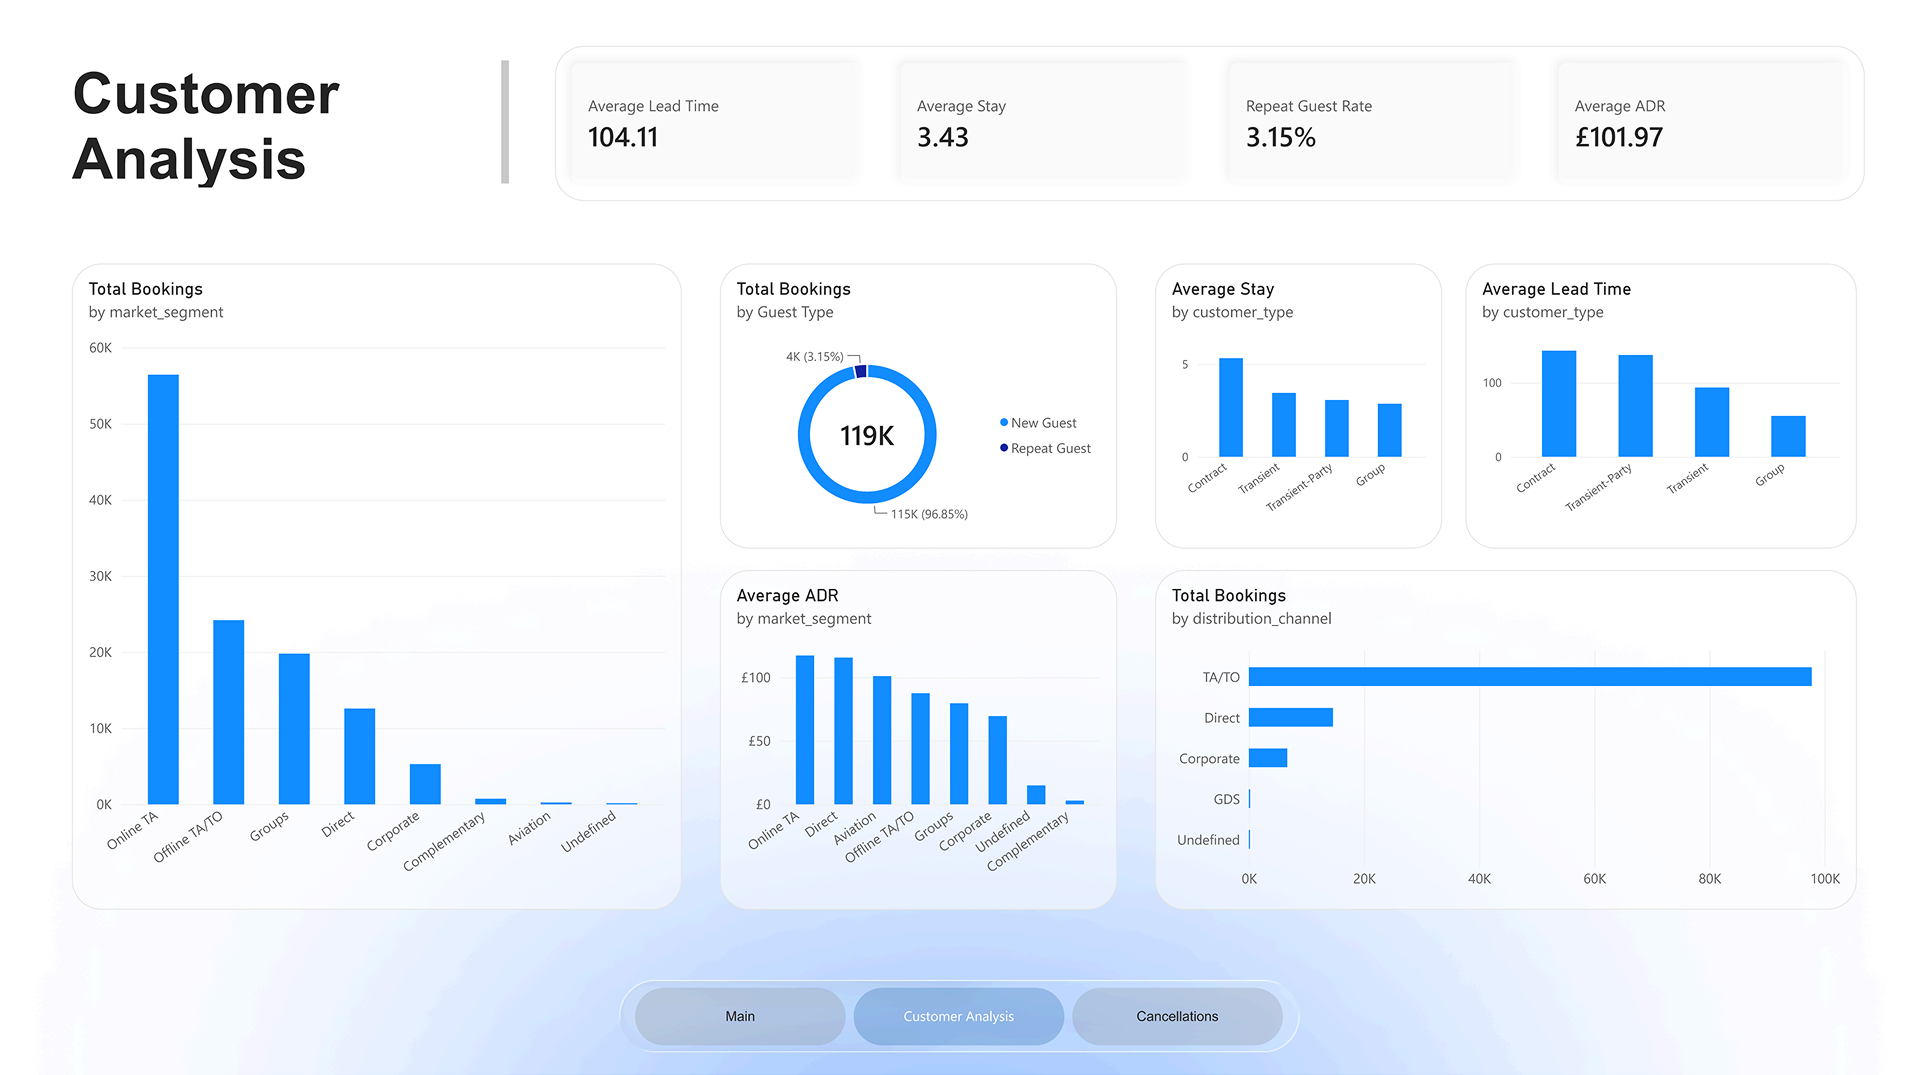

This screenshot's page, from the dashboard's own definition file:
{"tool":"powerbi","page":{"name":"Customer Analysis","canvas":[1920,1080],"ordinal":1},"visuals":[{"type":"cardVisual","fields":{"Data":["public vw_hotel_analysis.Average Lead Time","public vw_hotel_analysis.Average Stay","public vw_hotel_analysis.Repeat Guest Rate","public vw_hotel_analysis.Average ADR"]},"box":[545,23.3,1341.7,158.3],"z":0},{"type":"textbox","box":[50,38.3,448.3,130],"z":1000},{"type":"lineClusteredColumnComboChart","fields":{"Category":["public vw_hotel_analysis.market_segment"],"Y":["public vw_hotel_analysis.Total Bookings"]},"box":[50,246.2,625,661.2],"z":2000},{"type":"donutChart","fields":{"Category":["public vw_hotel_analysis.Guest Type"],"Y":["public vw_hotel_analysis.Total Bookings"]},"box":[713.8,246.2,407.5,291.2],"z":3000},{"type":"lineClusteredColumnComboChart","fields":{"Category":["public vw_hotel_analysis.market_segment"],"Y":["public vw_hotel_analysis.Average ADR"]},"box":[713.8,560,407.5,347.5],"z":4000},{"type":"clusteredColumnChart","fields":{"Category":["public vw_hotel_analysis.customer_type"],"Y":["public vw_hotel_analysis.Average Stay"]},"box":[1160,246.2,293.8,291.2],"z":5000},{"type":"lineClusteredColumnComboChart","fields":{"Category":["public vw_hotel_analysis.customer_type"],"Y":["public vw_hotel_analysis.Average Lead Time"]},"box":[1477.5,246.2,401.2,291.2],"z":6000},{"type":"barChart","fields":{"Category":["public vw_hotel_analysis.distribution_channel"],"Y":["public vw_hotel_analysis.Total Bookings"]},"box":[1160,560,718.8,347.5],"z":7000},{"type":"pageNavigator","box":[627,988,666,59],"z":7001}]}

Visuals, with their boxes in screenshot pixels (x1, y1, x2, y2), scaled from the page's 1920x1080 canvas onto the 1920x1075 screenshot:
cardVisual - public vw_hotel_analysis.Average Lead Time x public vw_hotel_analysis.Average Stay: select_region(545, 23, 1887, 181)
textbox: select_region(50, 38, 498, 168)
lineClusteredColumnComboChart - public vw_hotel_analysis.market_segment x public vw_hotel_analysis.Total Bookings: select_region(50, 245, 675, 903)
donutChart - public vw_hotel_analysis.Guest Type x public vw_hotel_analysis.Total Bookings: select_region(714, 245, 1121, 535)
lineClusteredColumnComboChart - public vw_hotel_analysis.market_segment x public vw_hotel_analysis.Average ADR: select_region(714, 557, 1121, 903)
clusteredColumnChart - public vw_hotel_analysis.customer_type x public vw_hotel_analysis.Average Stay: select_region(1160, 245, 1454, 535)
lineClusteredColumnComboChart - public vw_hotel_analysis.customer_type x public vw_hotel_analysis.Average Lead Time: select_region(1478, 245, 1879, 535)
barChart - public vw_hotel_analysis.distribution_channel x public vw_hotel_analysis.Total Bookings: select_region(1160, 557, 1879, 903)
pageNavigator: select_region(627, 983, 1293, 1042)
